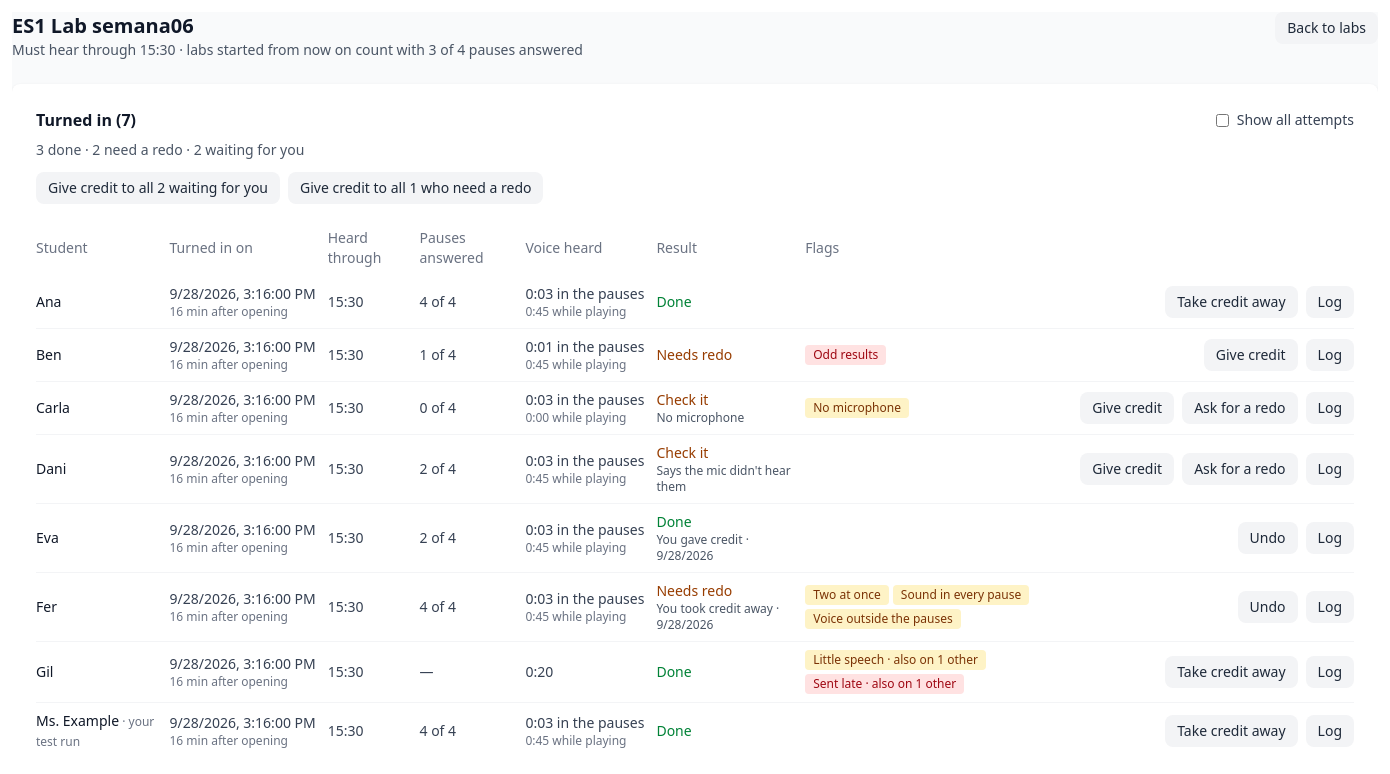
Test: LabReview › shows a refused credit change
The width and height of the screenshot is (1390, 774).
What coordinates should you click on to do the following:
click the button with aria-label "Give credit to Ben"
I would click on:
 (1251, 355)
Its box is [1204, 339, 1298, 371].
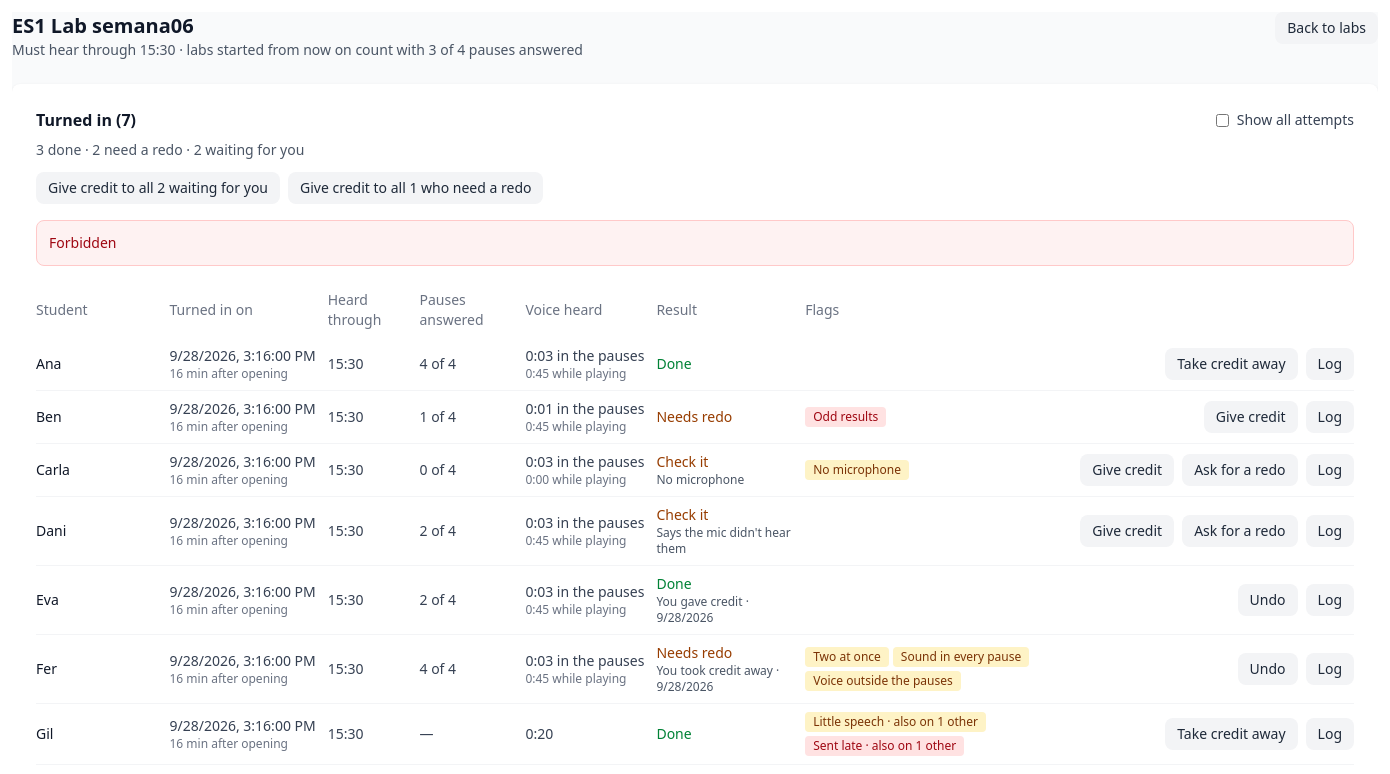
expect the message reads "Forbidden": met, box [49, 233, 116, 252]
